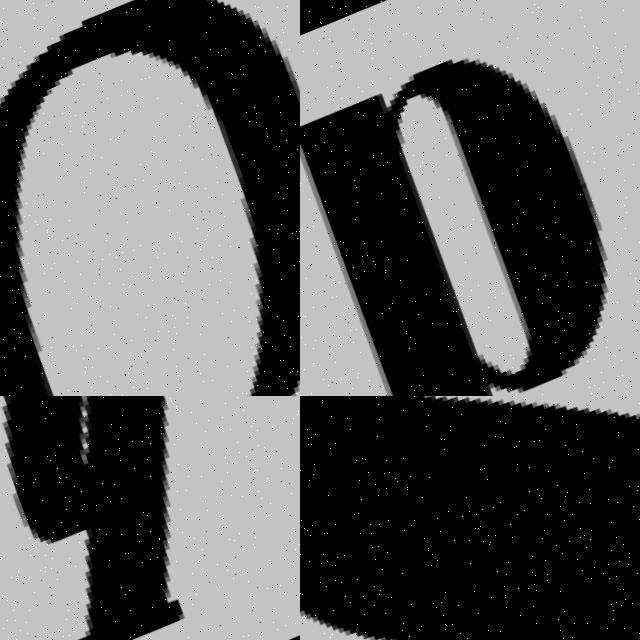O: (0, 0, 300, 396)
P: (300, 59, 613, 396)
Q: (0, 396, 300, 640)
S: (300, 396, 640, 640)
